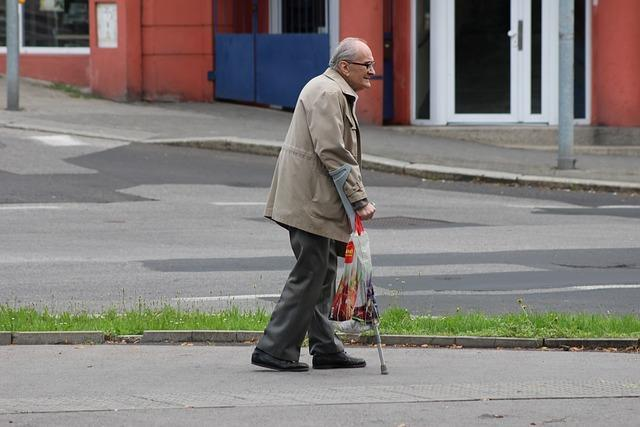crutches: (252, 37, 389, 376)
